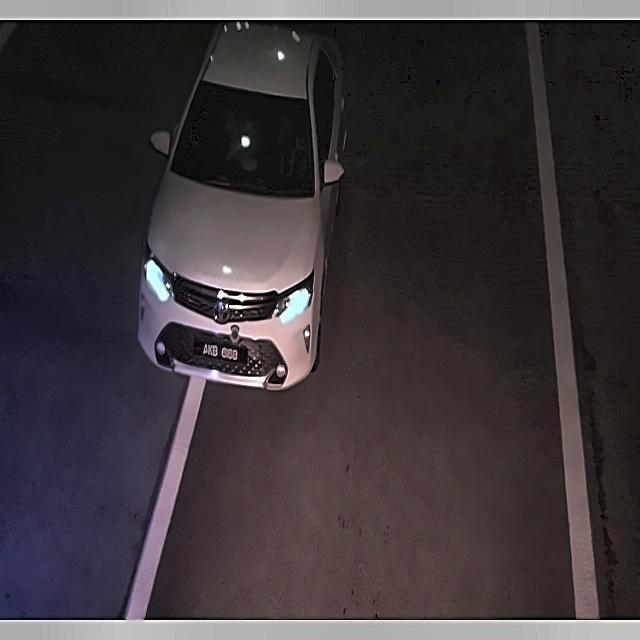car: (193, 332, 244, 375)
